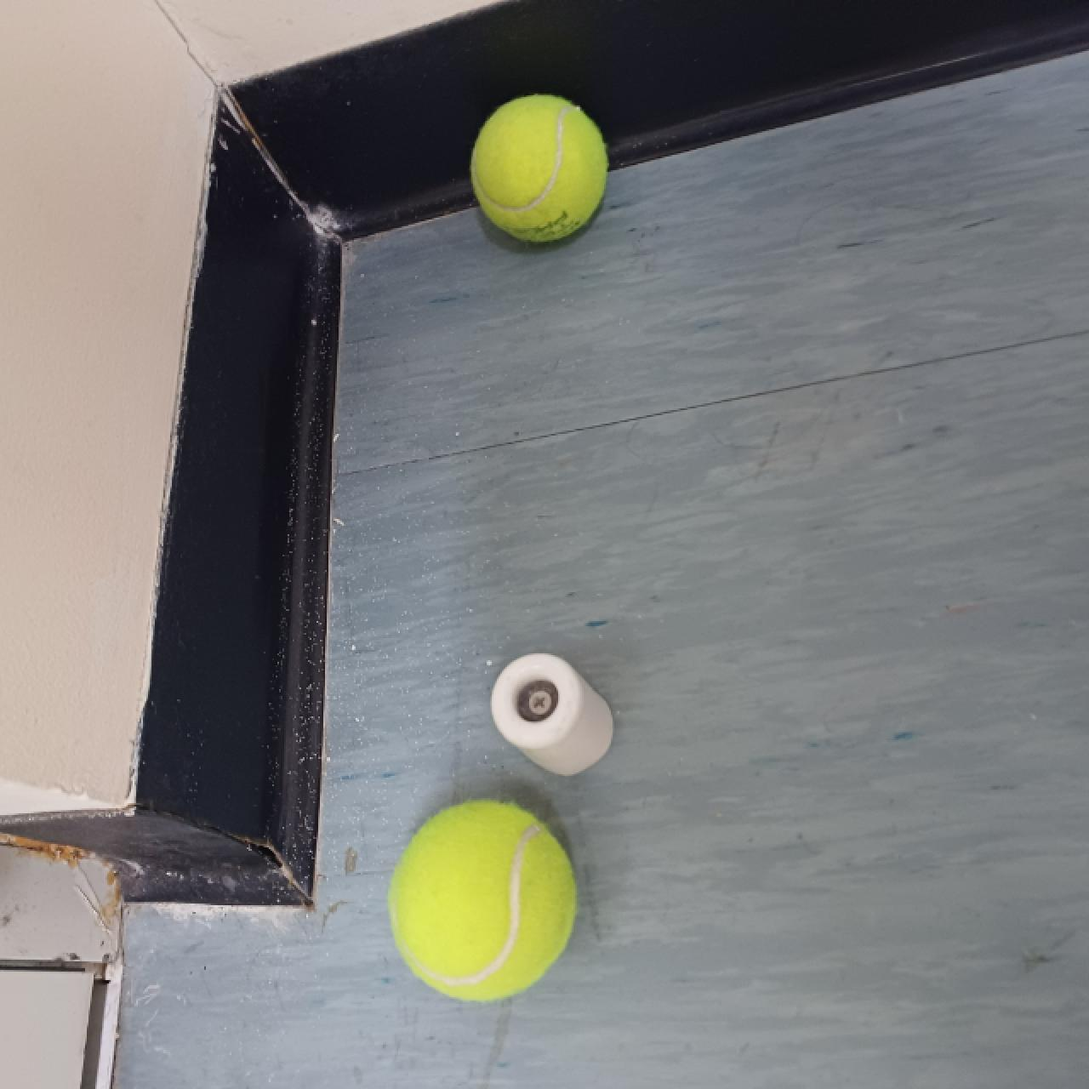tennis-ball: (388, 797, 577, 1001), (472, 91, 611, 246)
